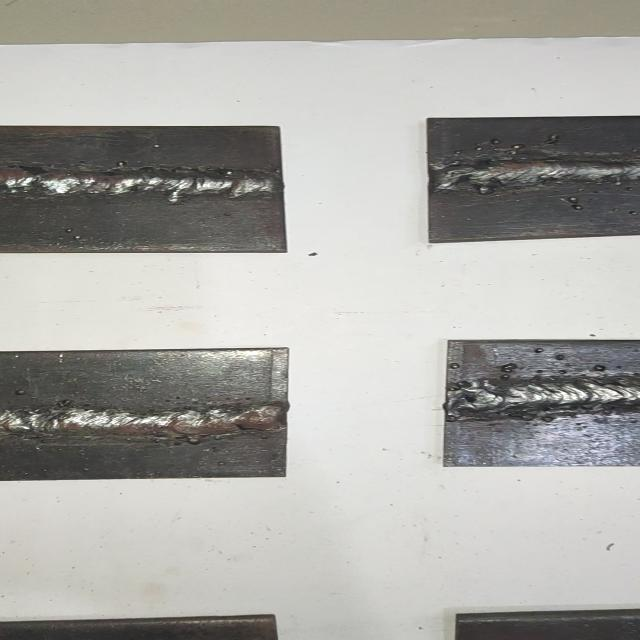Welding Line: (2, 406, 284, 436), (451, 381, 640, 421), (0, 171, 276, 196), (440, 157, 640, 191)
Workpiece: (0, 346, 294, 480), (0, 124, 291, 253), (421, 114, 640, 243), (442, 338, 640, 470)
